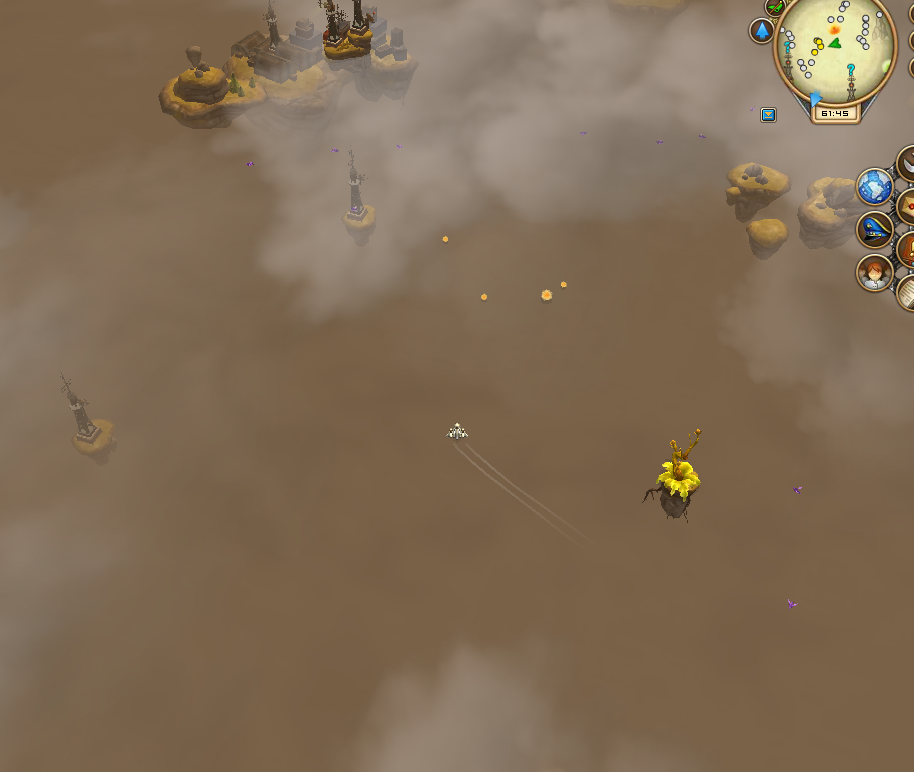dandelion-empty: (644, 423, 706, 511)
fluff: (537, 284, 556, 303), (557, 275, 569, 292), (477, 290, 490, 303), (440, 234, 451, 248)
